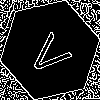V: (25, 25, 80, 81)
